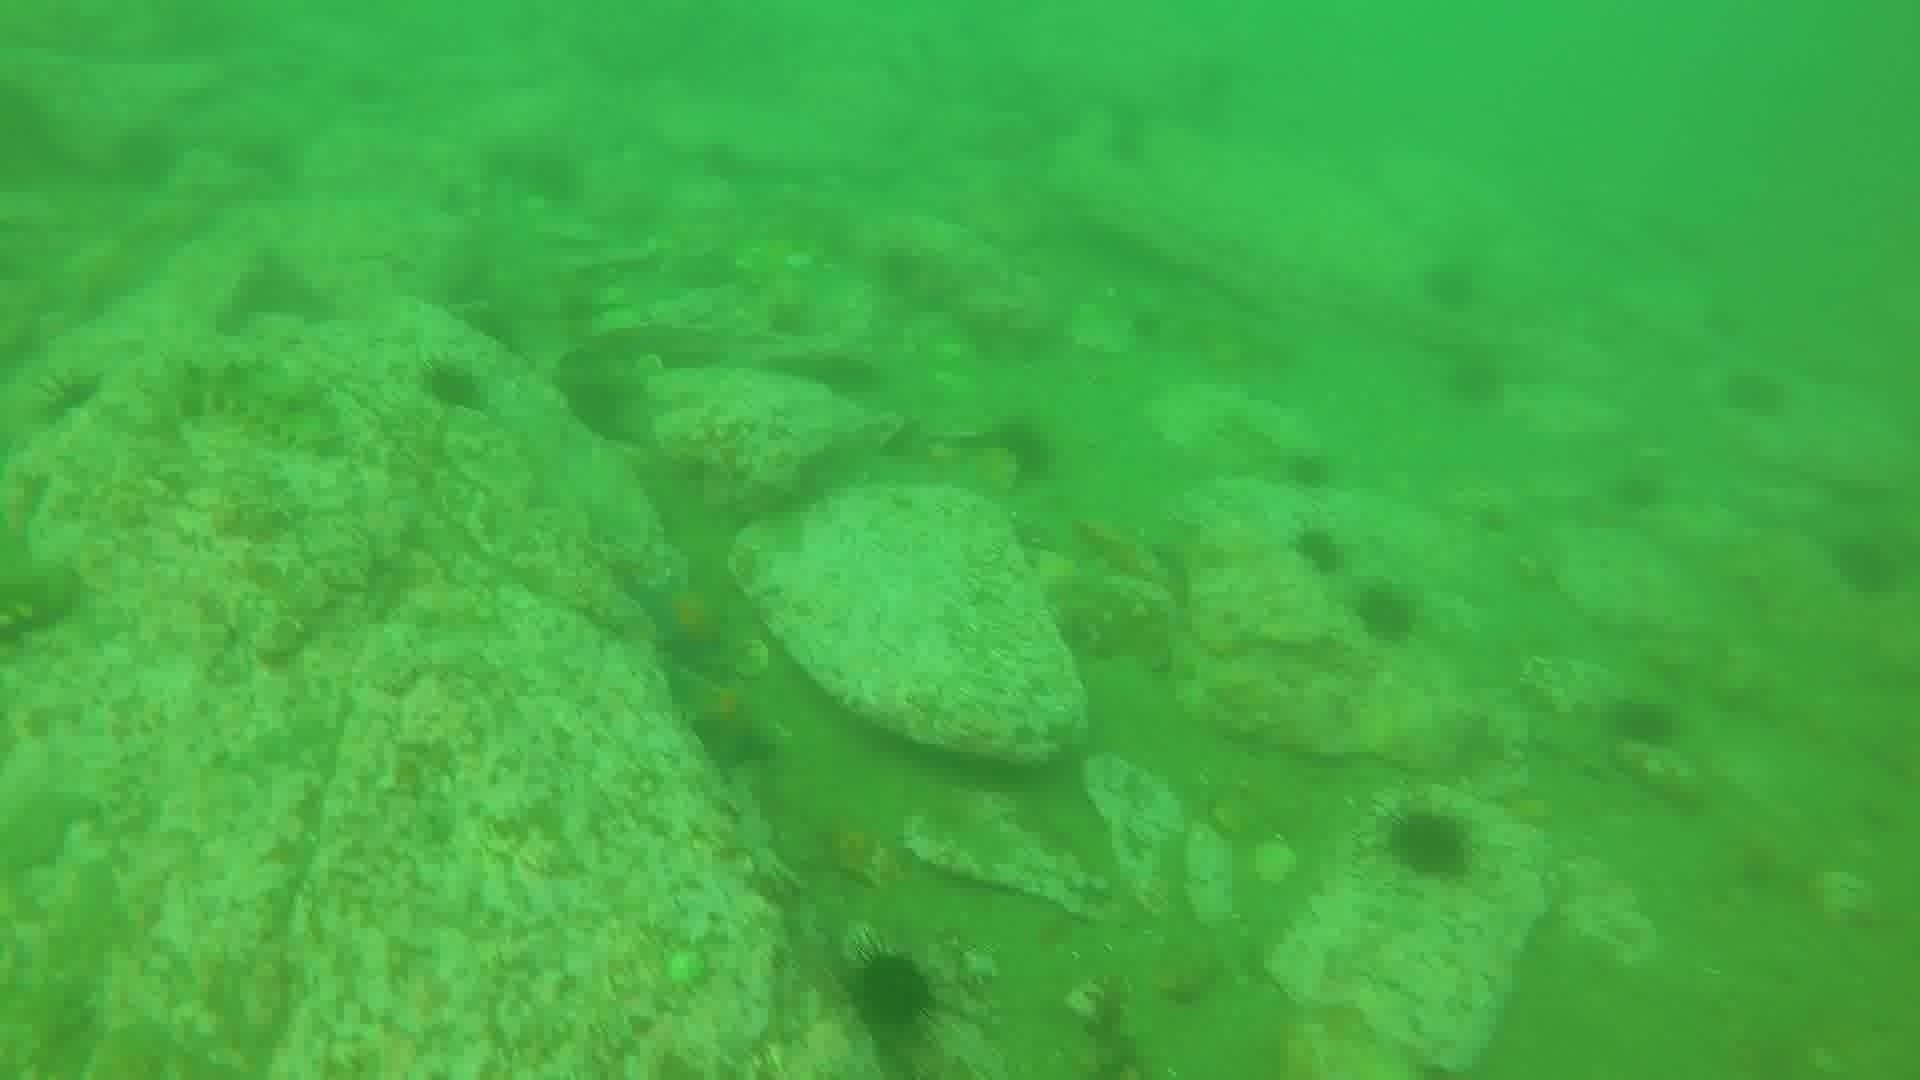echinus: (8, 363, 108, 455), (841, 945, 942, 1036), (1381, 804, 1478, 885), (553, 363, 644, 444), (984, 414, 1059, 487), (107, 123, 182, 195), (1828, 531, 1904, 601), (1349, 579, 1423, 647), (415, 353, 492, 417), (1604, 692, 1681, 753), (1441, 347, 1509, 411), (1718, 367, 1792, 422), (1606, 465, 1680, 521), (1418, 255, 1484, 315), (1288, 520, 1352, 579), (1280, 447, 1337, 496)
holothurian: (145, 349, 347, 456)
starfish: (666, 665, 783, 771), (626, 567, 738, 669)
